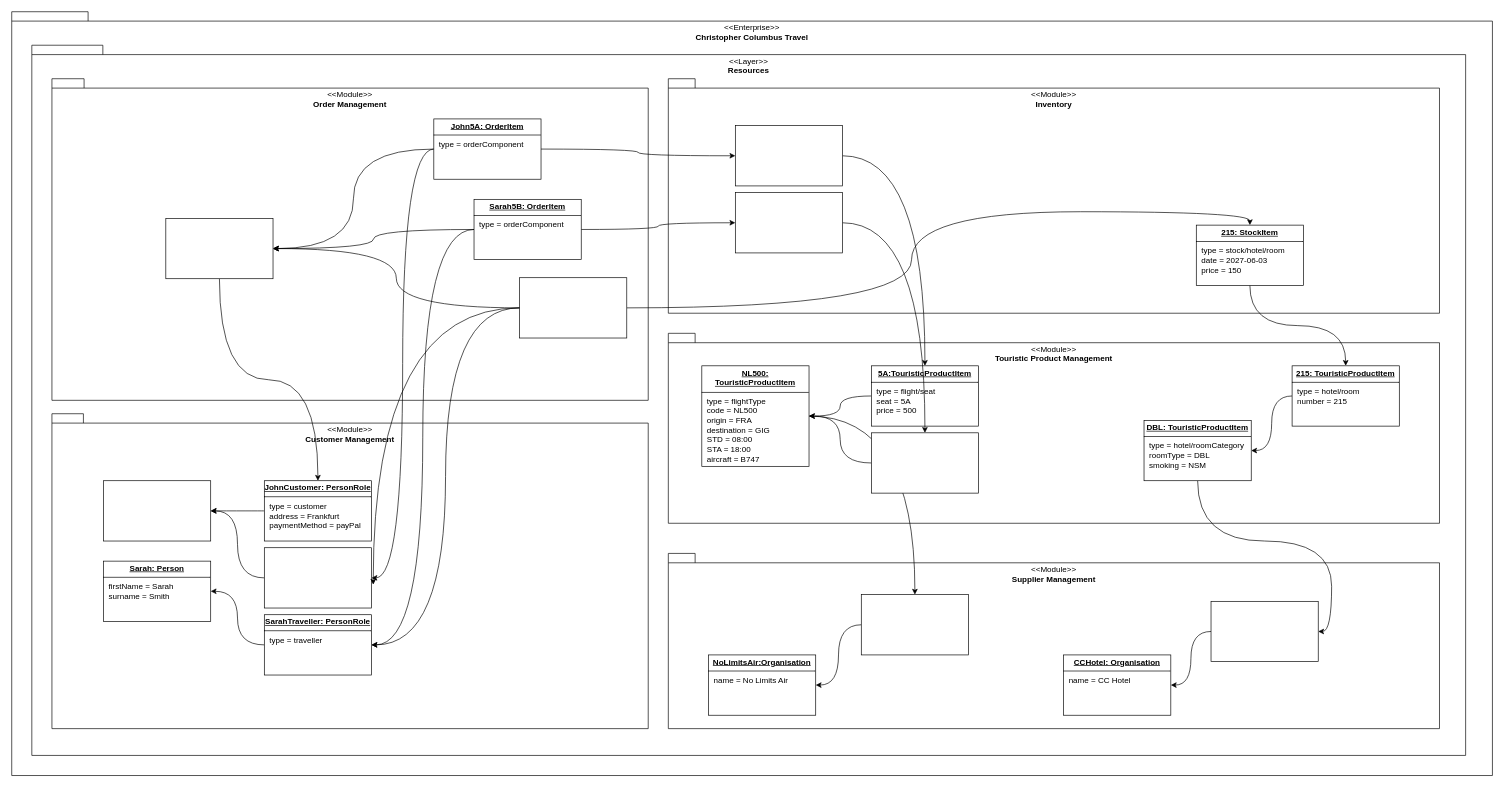
This 1504x787 diagram has some shape labels left out. Here are the shapes that lost their labels. From the top down, the centre of each, then its label:
the point at 789,155: 5A: StockItem type = stock/flight/seat date = 2027-06-03 price = 500
the point at 789,222: 5B: StockItem type = stockFlightSeat date = 2027-06-03 price = 500
the point at 219,248: JohnRio: OrderItem type = order orderNumber =5766 status = paid
the point at 573,307: 215: OrderItem type = orderComponent
the point at 925,462: 5B:TouristicProductItem type = flightSeat seat = 5B
the point at 157,510: John: Person firstName = John surname = Smith
the point at 318,577: JohnTraveller: PersonRole type = traveller
the point at 914,624: NoLimitsAirline:OrgaRole type = supplier/airline address = Brussels code = NL
the point at 1264,631: CCHotel:OrgaRole type = supplier/hotel address = Rio de Janeiro
